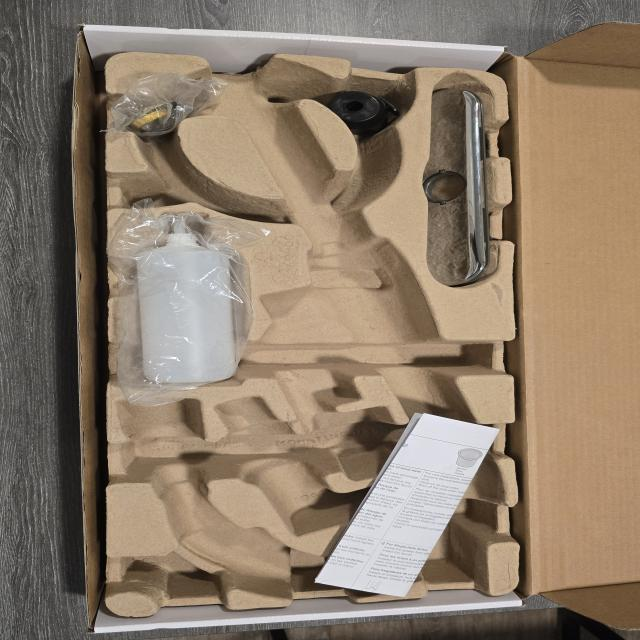1m: (115, 56, 503, 594)
2m: (215, 394, 432, 536)
3: (133, 217, 233, 385)
4: (422, 87, 489, 288)
5: (331, 92, 399, 137)
6: (109, 70, 222, 140)
7m: (121, 150, 253, 214)
8: (314, 411, 502, 597)
